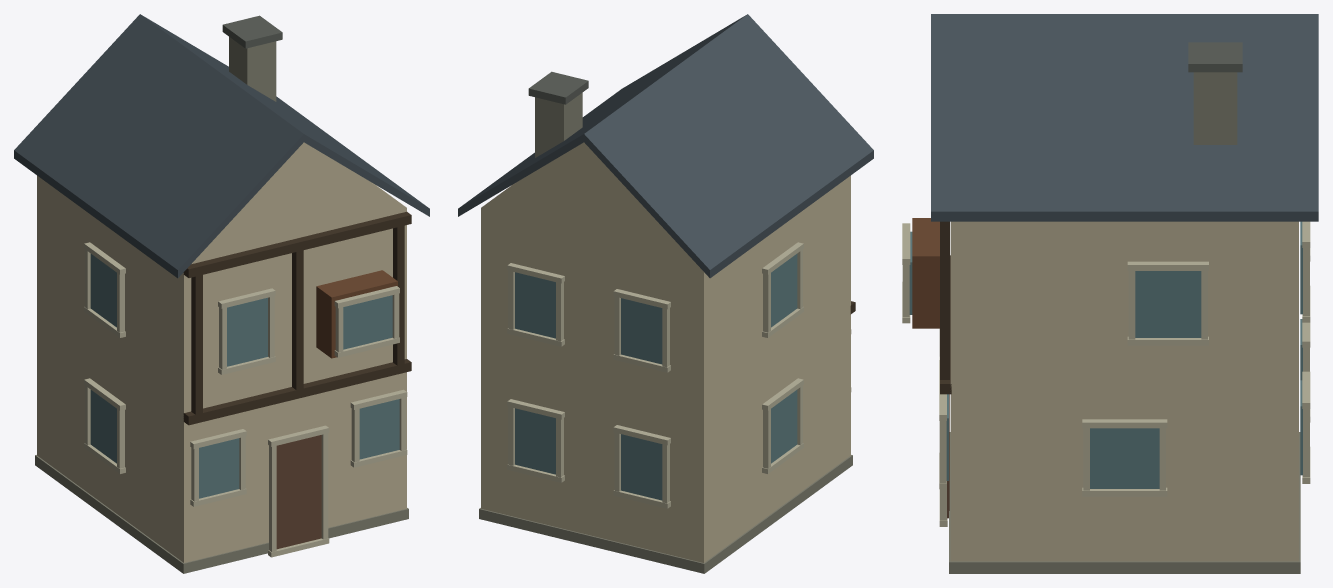
The model's file is Building_Settlement_HalfTimberTownhouse_001_LOD1.glb.
3 renders of one model, left to right at view 1: azimuth 30°, elevation 25°; view 2: azimuth 150°, elevation 25°; view 3: azimuth 270°, elevation 25°, orthographic. The views are drawn at different scales.
Parts seen in each view (by area): view 1: Building_Settlement_HalfTimberTownhouse_001_LOD1; view 2: Building_Settlement_HalfTimberTownhouse_001_LOD1; view 3: Building_Settlement_HalfTimberTownhouse_001_LOD1.
Boxes of the visible parts, x1,y1,x2,y2 form: Building_Settlement_HalfTimberTownhouse_001_LOD1: (14, 14, 429, 573); Building_Settlement_HalfTimberTownhouse_001_LOD1: (458, 14, 873, 573); Building_Settlement_HalfTimberTownhouse_001_LOD1: (902, 14, 1318, 573).
Bounding box in the file's own units: 4.75 × 7.56 × 5.75.
